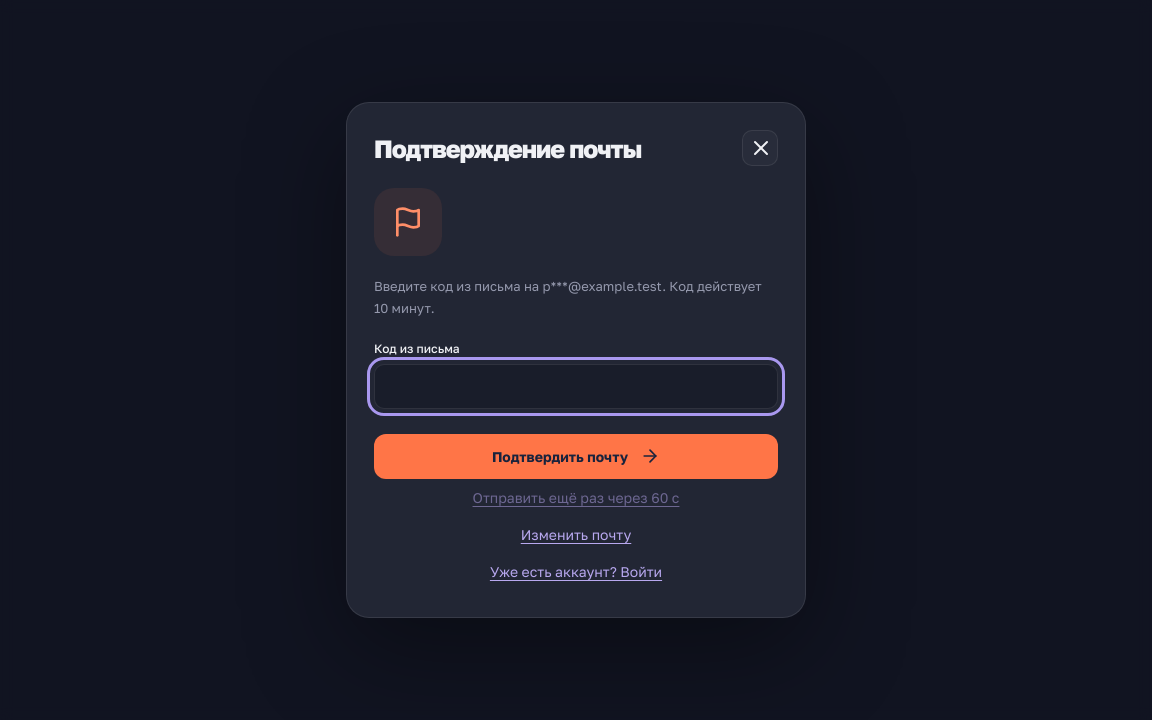
lets a player restart if another registration claims the login before verification
Expected: the dialog labelled "код из письма" is shown, [346,102,806,618]
Type "012345" into the field labelled "Код из письма" at (576, 386), box [374,364,778,409]
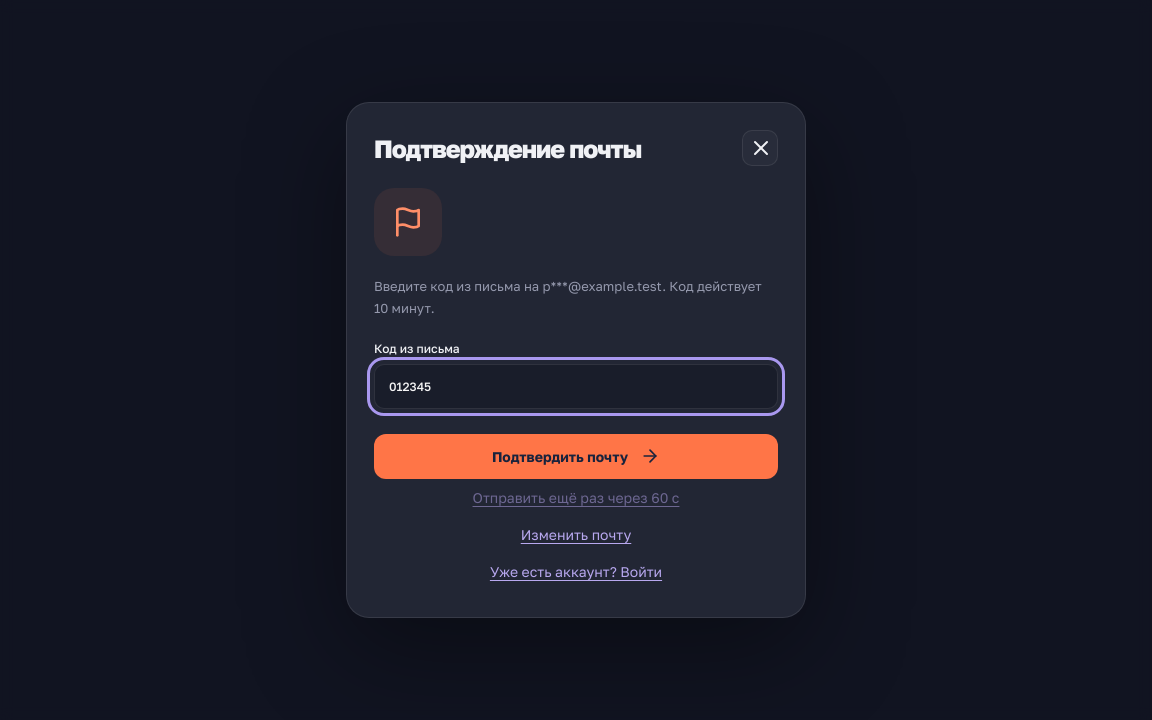
Click the button "Подтвердить почту" at (576, 456), box [374,434,778,479]
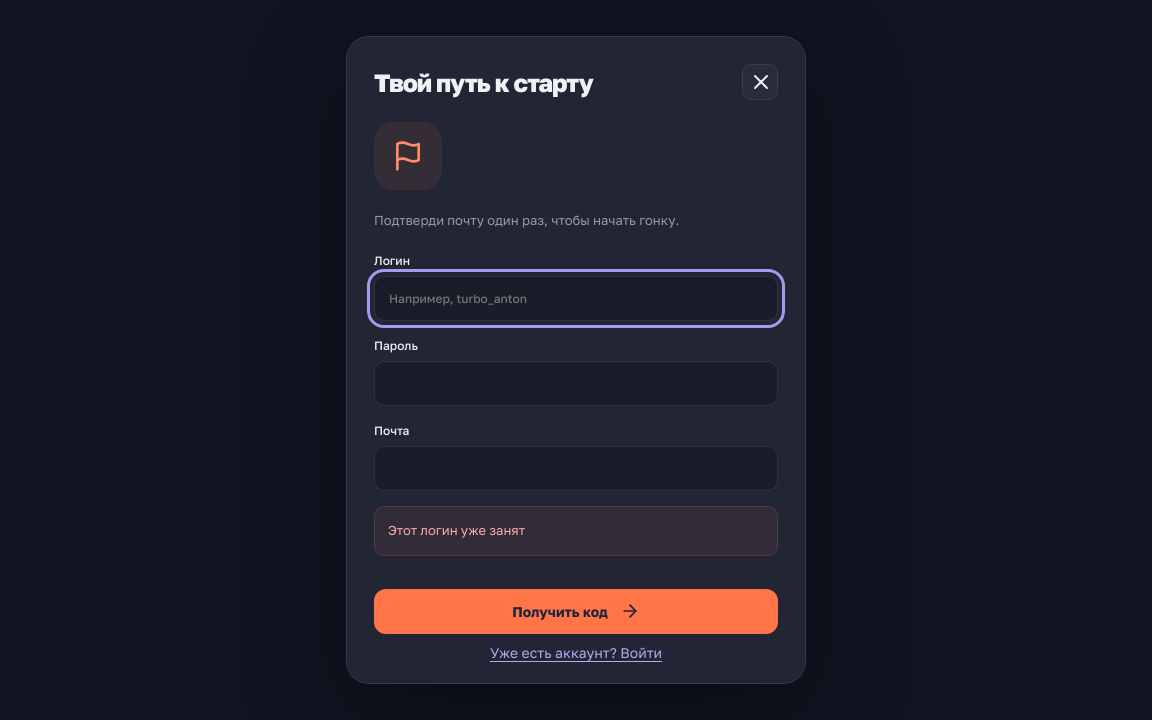
Expected: the message shows "логин уже занят", [388,522,525,538]
